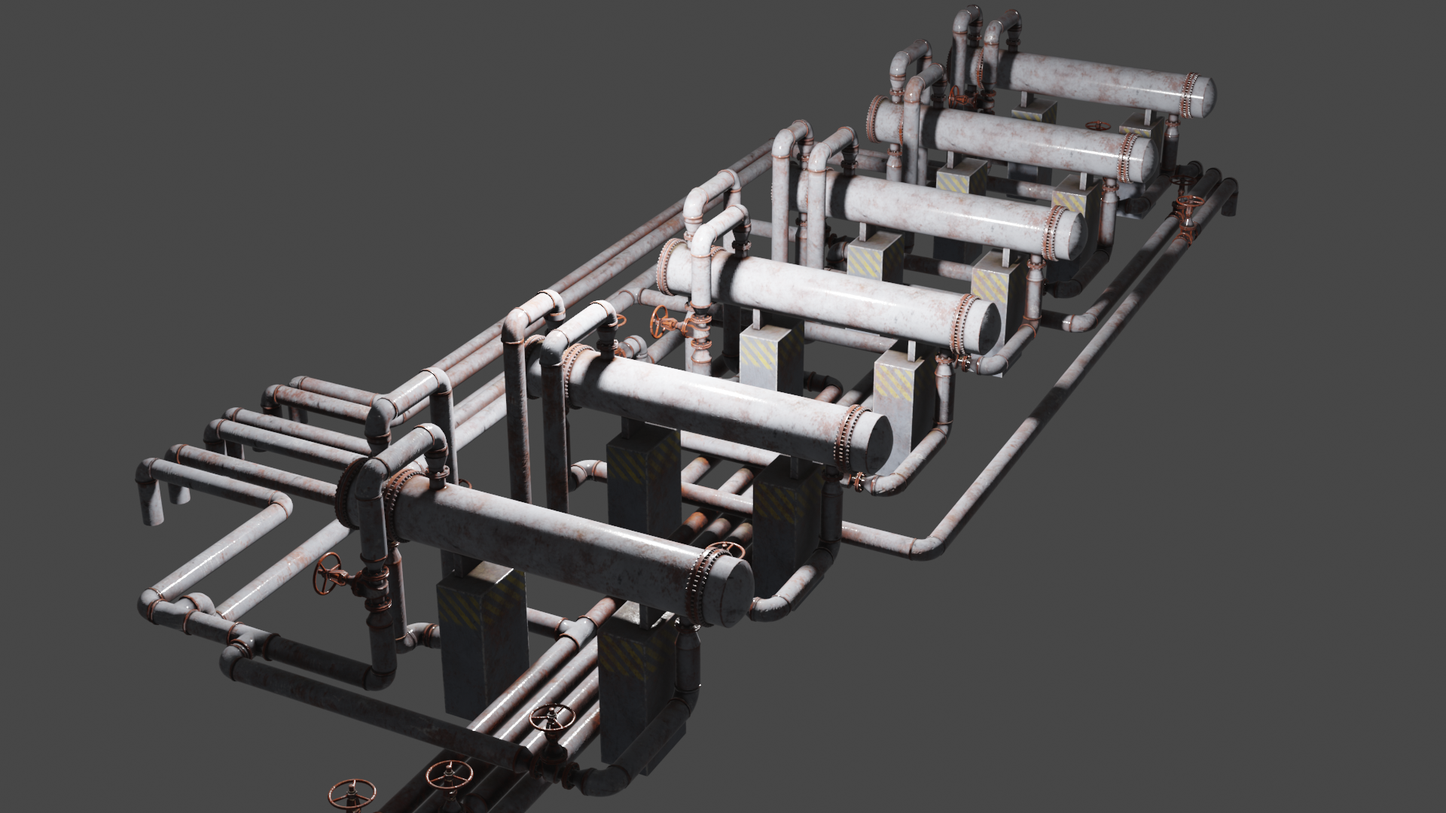HE_1: (939, 40, 1216, 120)
HE_2: (864, 89, 1154, 182)
HE_3: (790, 161, 1086, 256)
HE_4: (655, 238, 997, 351)
HE_5: (524, 330, 891, 470)
HE_6: (330, 452, 754, 631)
